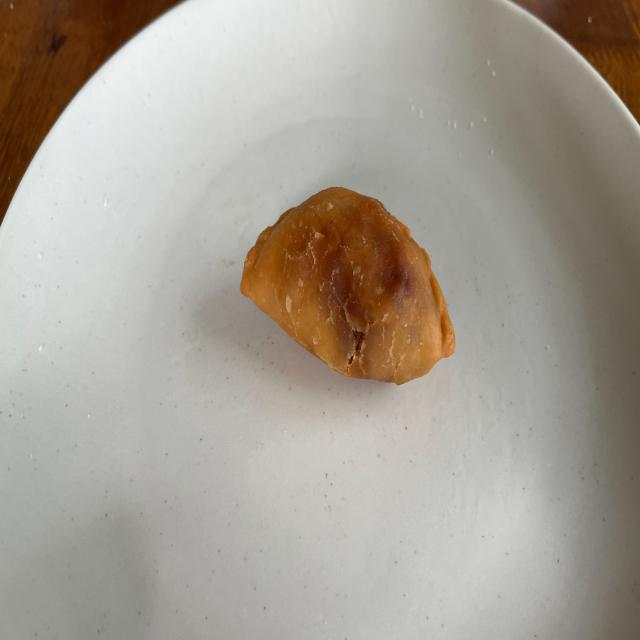karipap: (240, 187, 455, 384)
